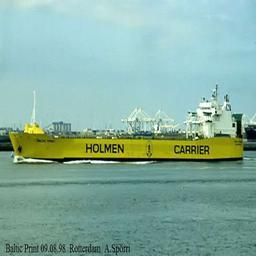Ship: (8, 105, 247, 165)
